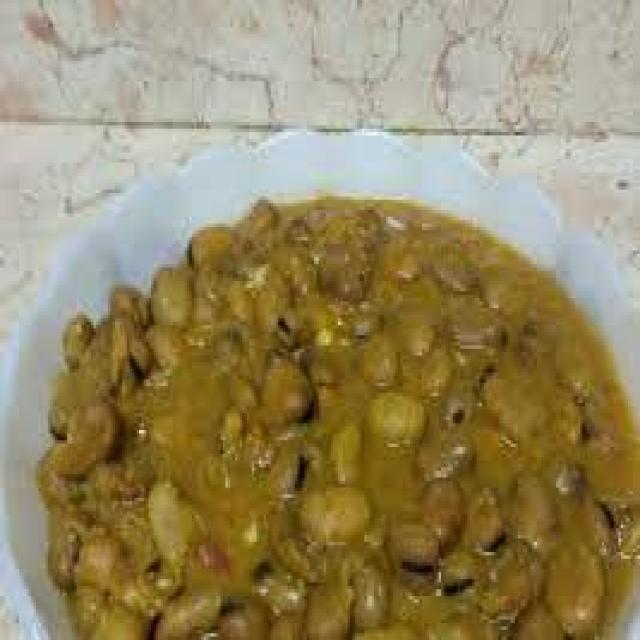fool: (33, 198, 638, 638)
